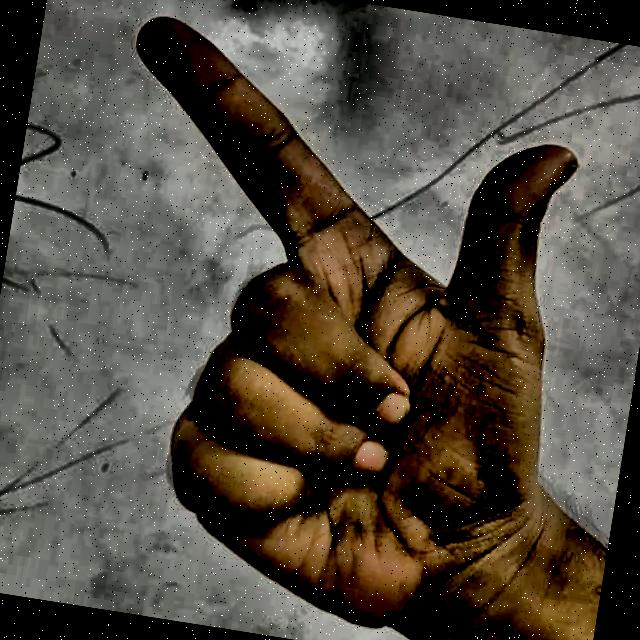Tha: (23, 0, 629, 640)
